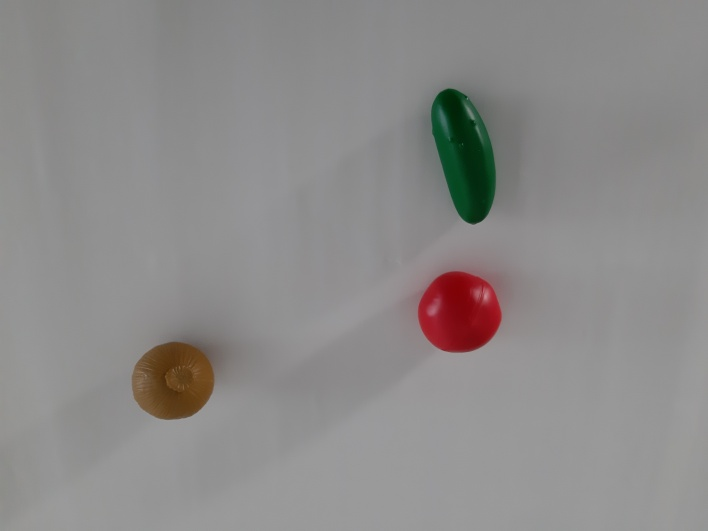cucumber: (416, 73, 520, 244)
onion: (111, 328, 228, 431)
tomato: (403, 257, 514, 370)
